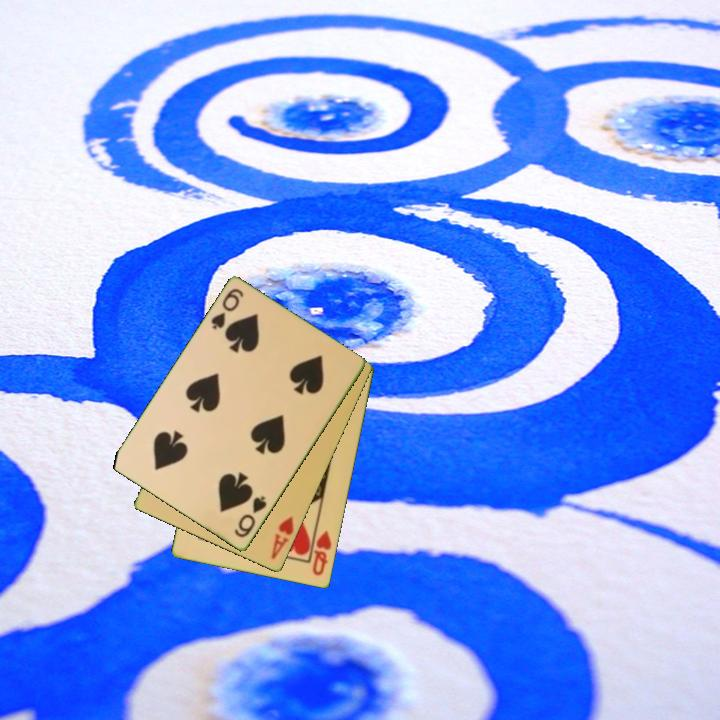6s: (231, 492, 270, 541), (208, 285, 247, 333)
Ah: (268, 513, 297, 563)
Qh: (309, 528, 335, 579)
